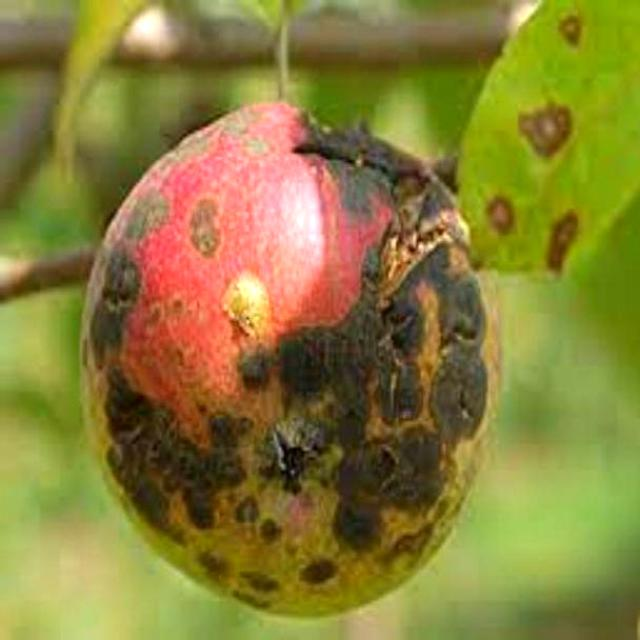SCAB: (57, 83, 567, 617)
